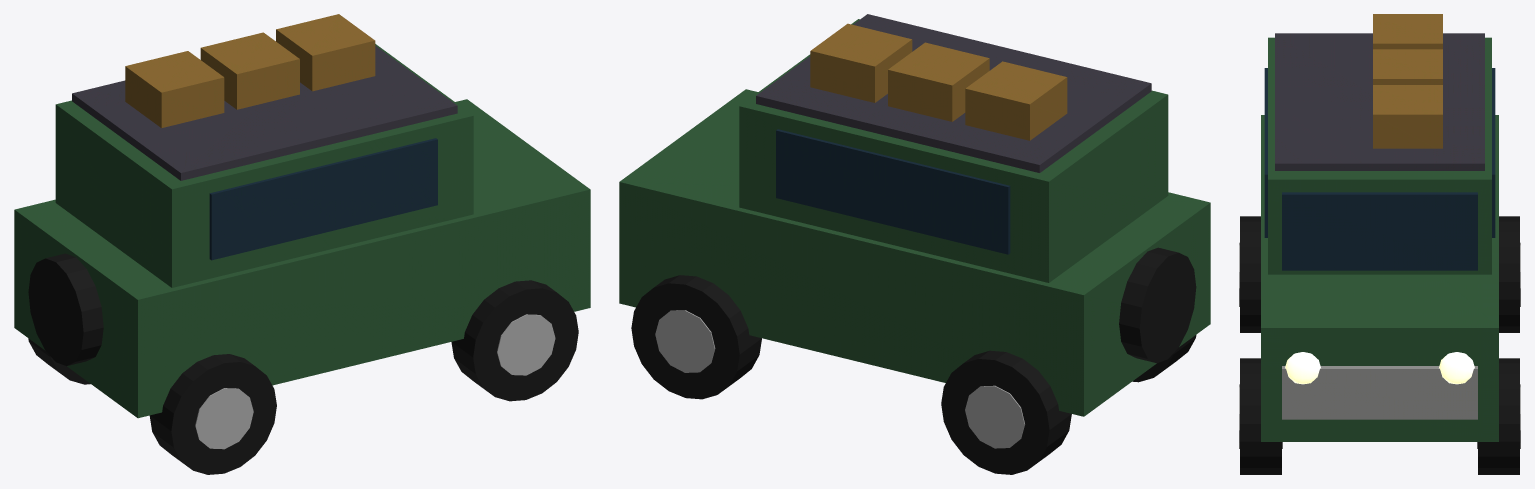
File: jeep.glb
The picture shows the model from 3 angles, left to right: view 1: azimuth 30°, elevation 25°; view 2: azimuth 150°, elevation 25°; view 3: azimuth 270°, elevation 25°; orthographic projection. The views are drawn at different scales.
Parts seen in each view (by area): view 1: Cube; view 2: Cube; view 3: Cube.
Boxes of the visible parts, x1,y1,x2,y2 form: Cube: (14,14,590,474); Cube: (619,14,1210,474); Cube: (1239,14,1520,474).
Bounding box in the file's own units: 1.54 × 1 × 0.806.
Materials: 1 (1 with a texture image).
